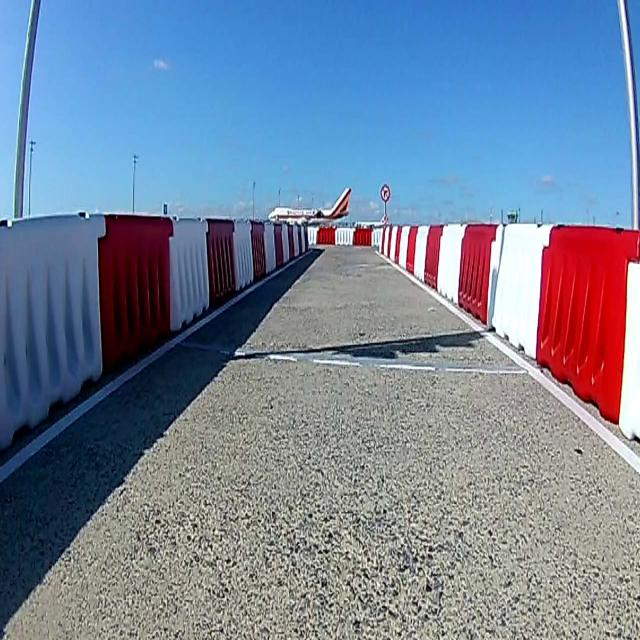sagadonulmez: (380, 182, 390, 202)
